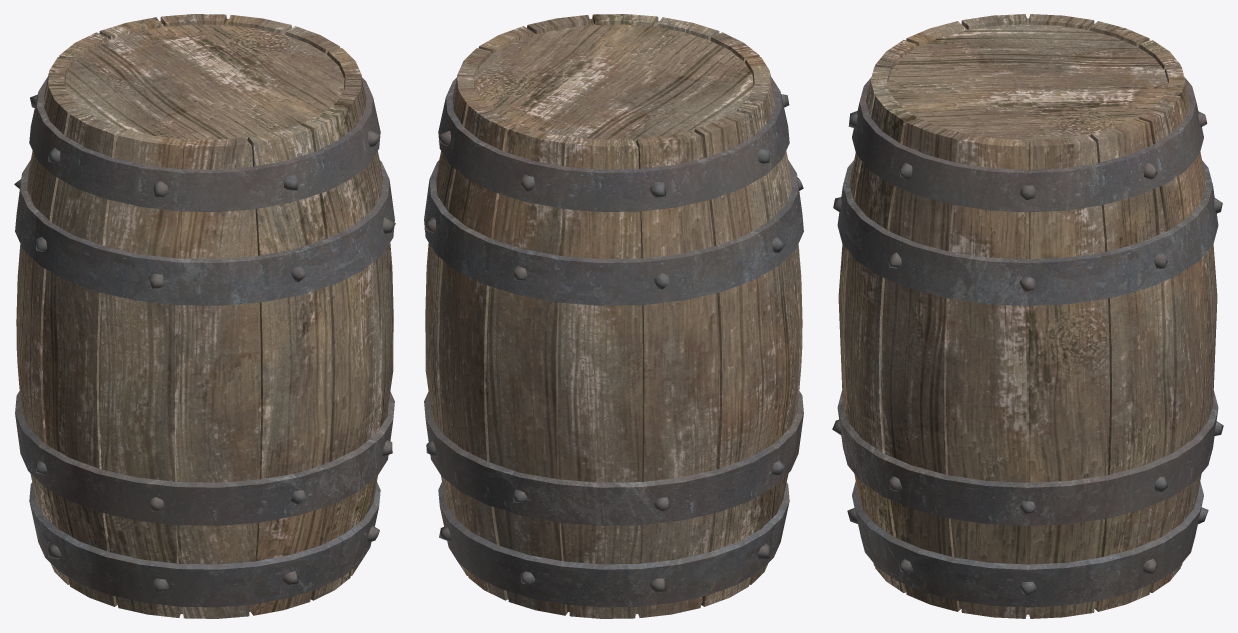
File: SM_Barrel_01.fbx
3 renders of one model, left to right at view 1: azimuth 30°, elevation 25°; view 2: azimuth 150°, elevation 25°; view 3: azimuth 270°, elevation 25°, orthographic.
Parts seen in each view (by area): view 1: SM_Barrel_01_LOD0; view 2: SM_Barrel_01_LOD0; view 3: SM_Barrel_01_LOD0.
Boxes of the visible parts, x1,y1,x2,y2 form: SM_Barrel_01_LOD0: (14,14,395,618); SM_Barrel_01_LOD0: (424,14,803,618); SM_Barrel_01_LOD0: (832,14,1223,618).
Bounding box in the file's own units: 54.84 × 54.93 × 73.08.
Materials: 2 (2 with a texture image).
